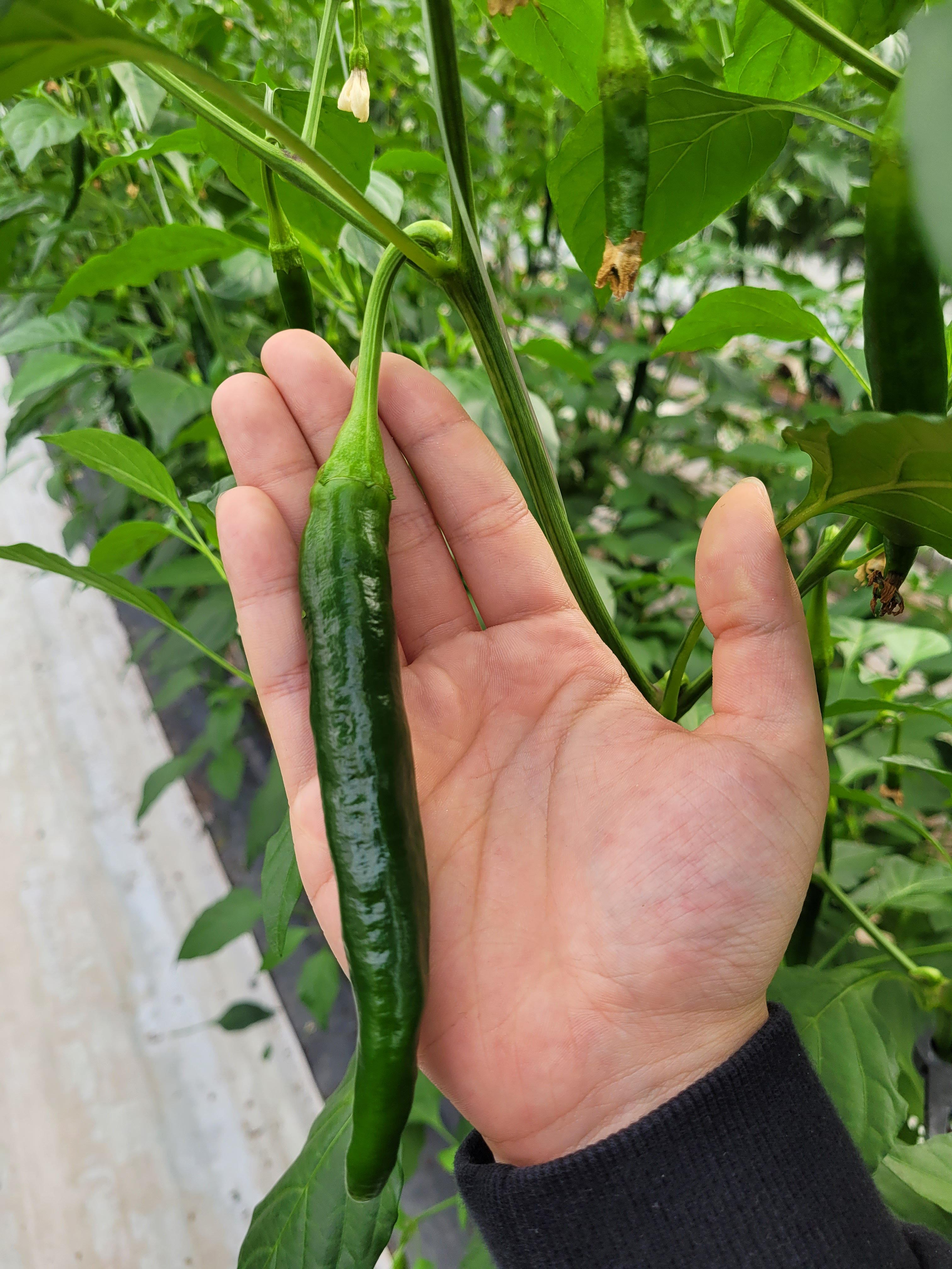Buah Cabai Sehat: (287, 428, 436, 1203)
